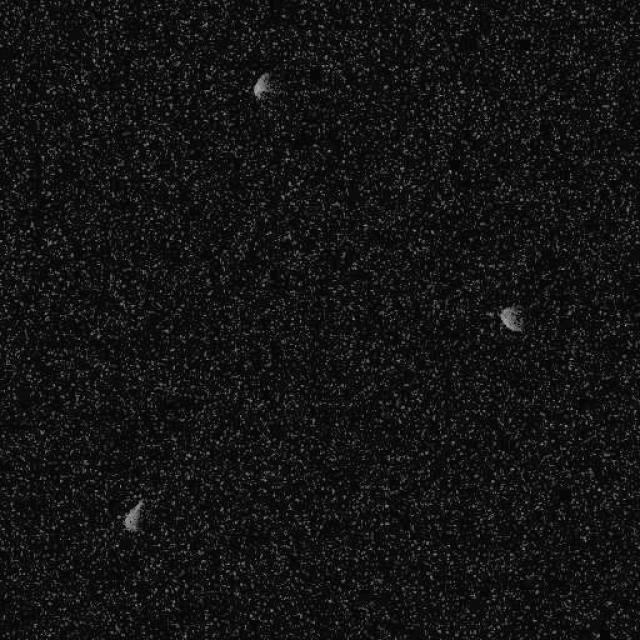D2: (121, 498, 145, 534), (498, 304, 524, 332), (251, 70, 271, 100)
